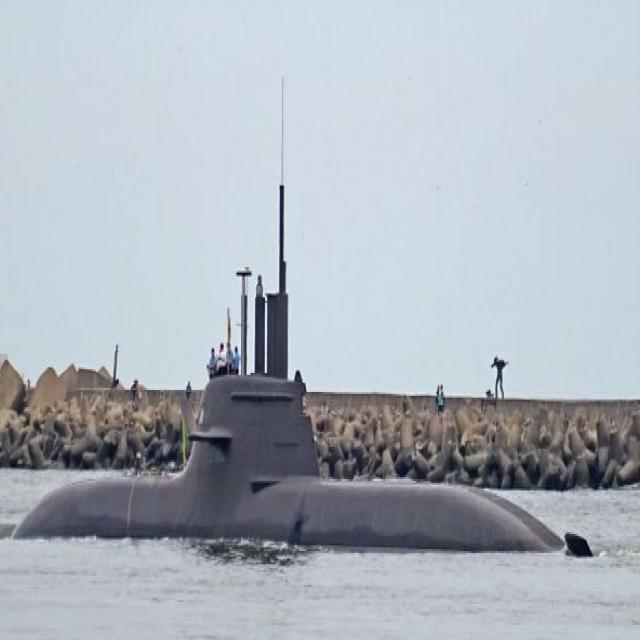submarine: (16, 90, 640, 560)
